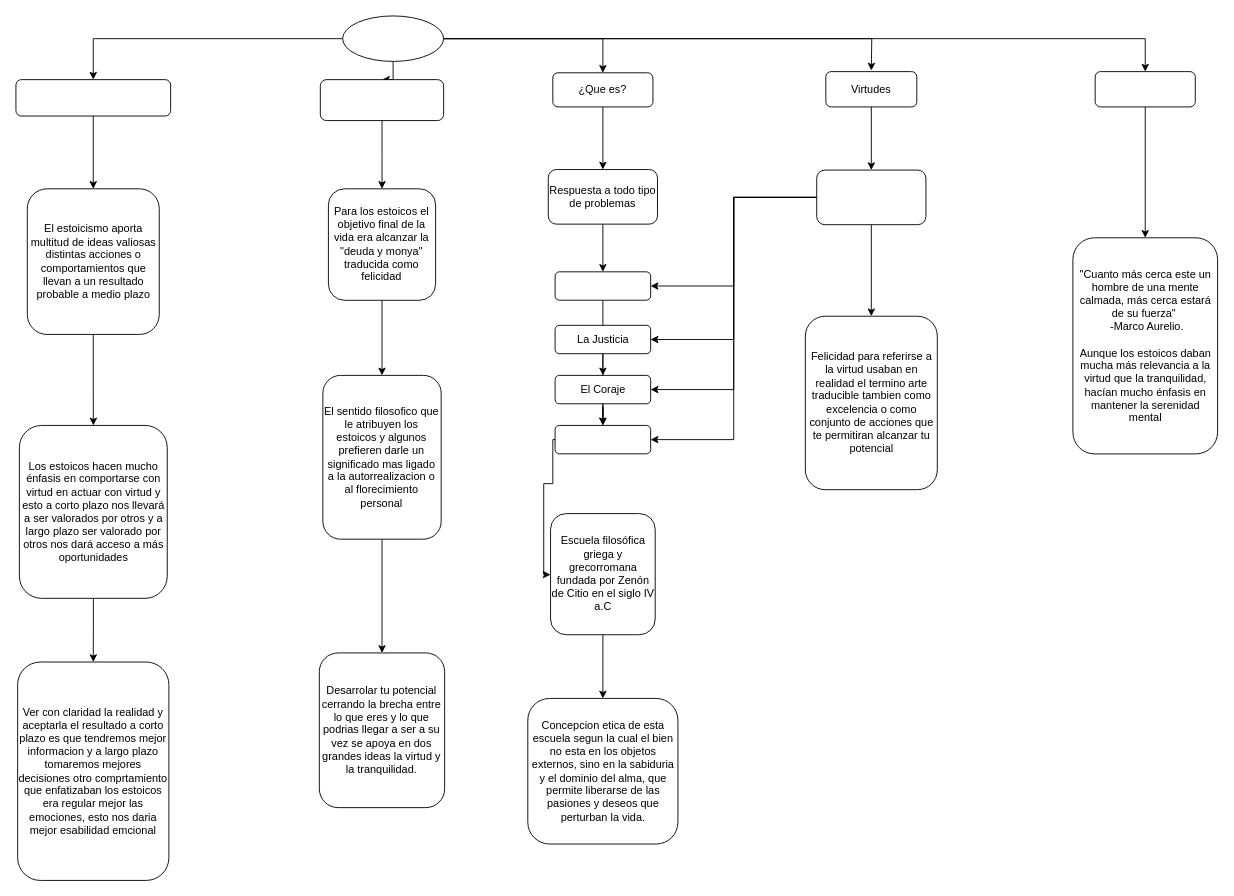
Image size: 1234x896. Some labels were removed from this diagram. Here are the shapes that lost their labels. From the top down, the box of each, then its label:
(342, 15, 444, 61): Estoicisimo
(15, 79, 171, 116): Principales Ideas
(319, 79, 444, 121): Características del estoicismo
(1094, 71, 1195, 107): Ataraxia
(816, 169, 926, 225): Destacaban cuatro virtudes
(554, 271, 651, 300): La Sabiduría
(554, 425, 651, 454): La Templanza
